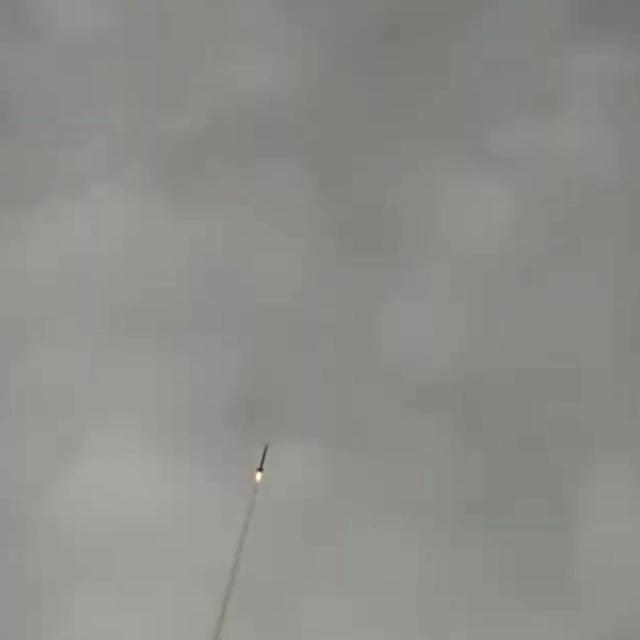smoke_trail_with_rocket: (209, 444, 270, 640)
